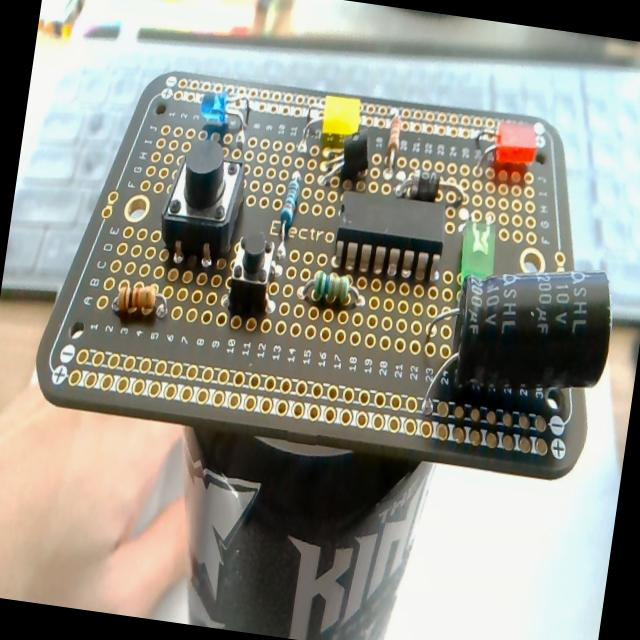Electrolytic capacitor: (444, 252, 617, 406)
IC: (333, 192, 452, 284)
diode: (394, 168, 467, 208)
led: (472, 118, 540, 180), (454, 215, 500, 302), (196, 87, 249, 144), (321, 93, 362, 140)
resistor: (298, 270, 368, 314), (273, 172, 303, 264), (111, 280, 168, 322), (383, 114, 404, 172)
switch: (156, 132, 252, 268), (222, 230, 280, 318)
transistor: (309, 122, 373, 190)
